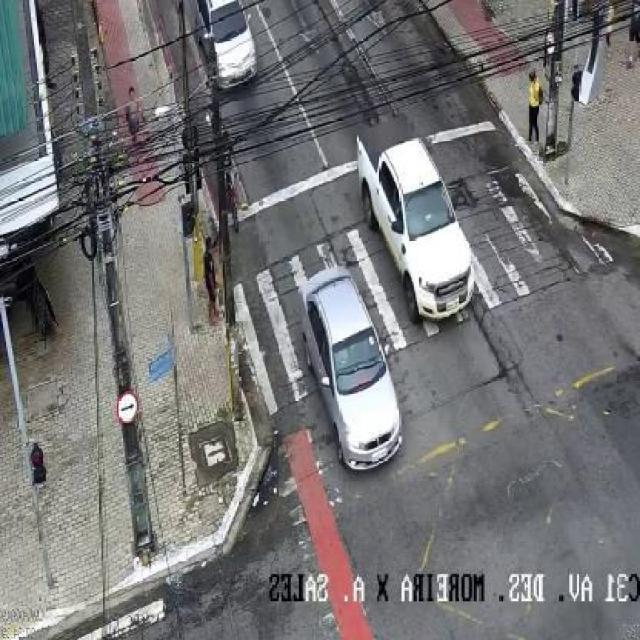Car: (290, 244, 420, 482), (355, 129, 477, 331), (201, 0, 261, 89)
